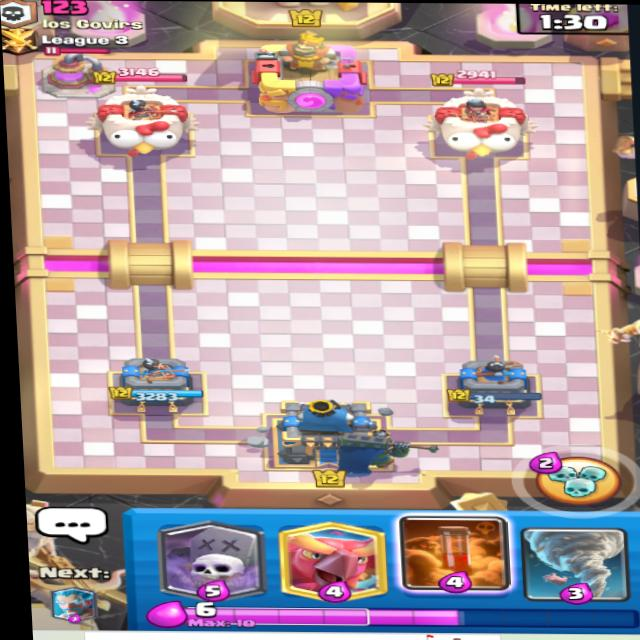elixir-collector: (38, 46, 112, 94)
